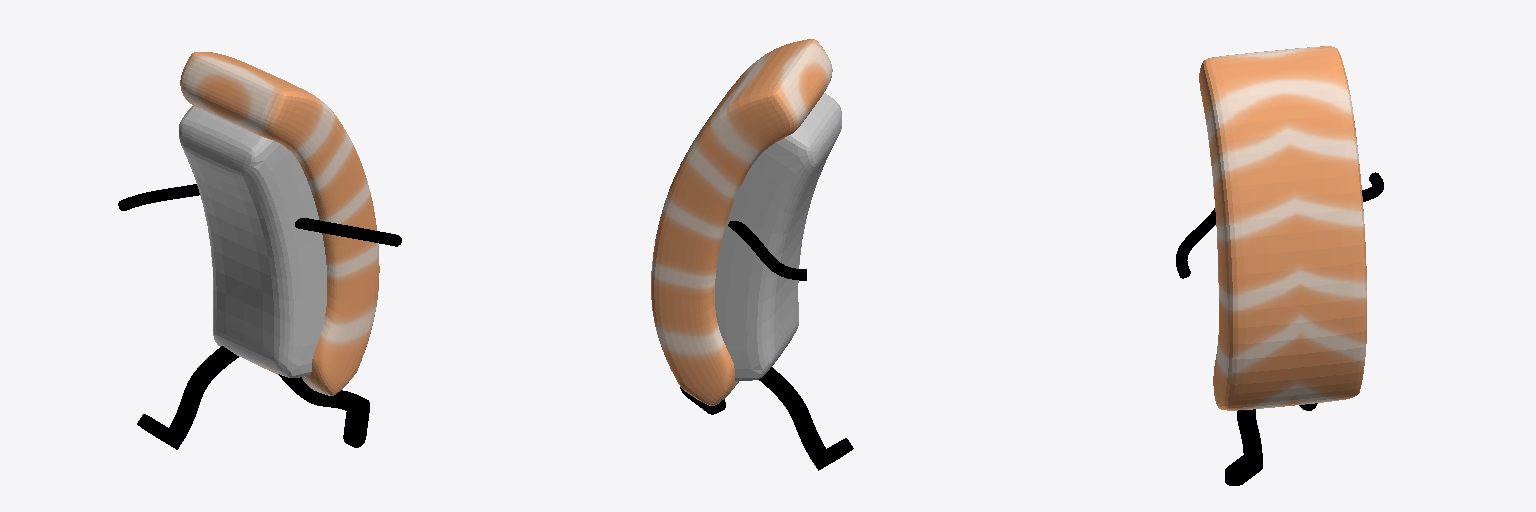
3 views of the same model, side by side, from view 1: azimuth 30°, elevation 25°; view 2: azimuth 150°, elevation 25°; view 3: azimuth 270°, elevation 25° (orthographic).
Visible parts, largest first — view 1: Cube, Cube.001, BezierCurve.003, BezierCurve.001; view 2: Cube.001, Cube, BezierCurve.003, BezierCurve.001; view 3: Cube.001, BezierCurve.003, BezierCurve.001.
Part boxes in pixels (x1,y1,x2,y2): Cube: (179,106,326,377); Cube.001: (180,52,379,395); BezierCurve.003: (137,346,369,449); BezierCurve.001: (118,184,401,246); Cube.001: (651,39,832,405); Cube: (715,93,841,380); BezierCurve.003: (680,367,853,470); BezierCurve.001: (728,221,806,280); Cube.001: (1199,46,1366,410); BezierCurve.003: (1225,403,1317,485); BezierCurve.001: (1176,172,1383,278).
Size of the model in its own units: 3.9 by 7.14 by 3.49.
4 materials, 1 textured.